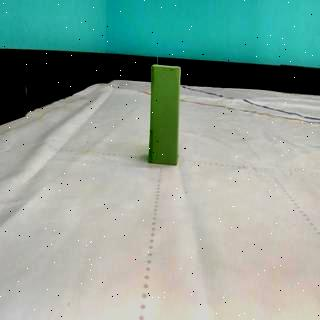greenbox: (148, 62, 182, 166)
